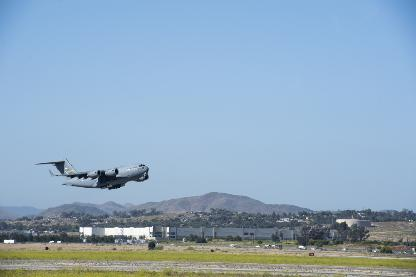C2: (34, 157, 148, 189)
